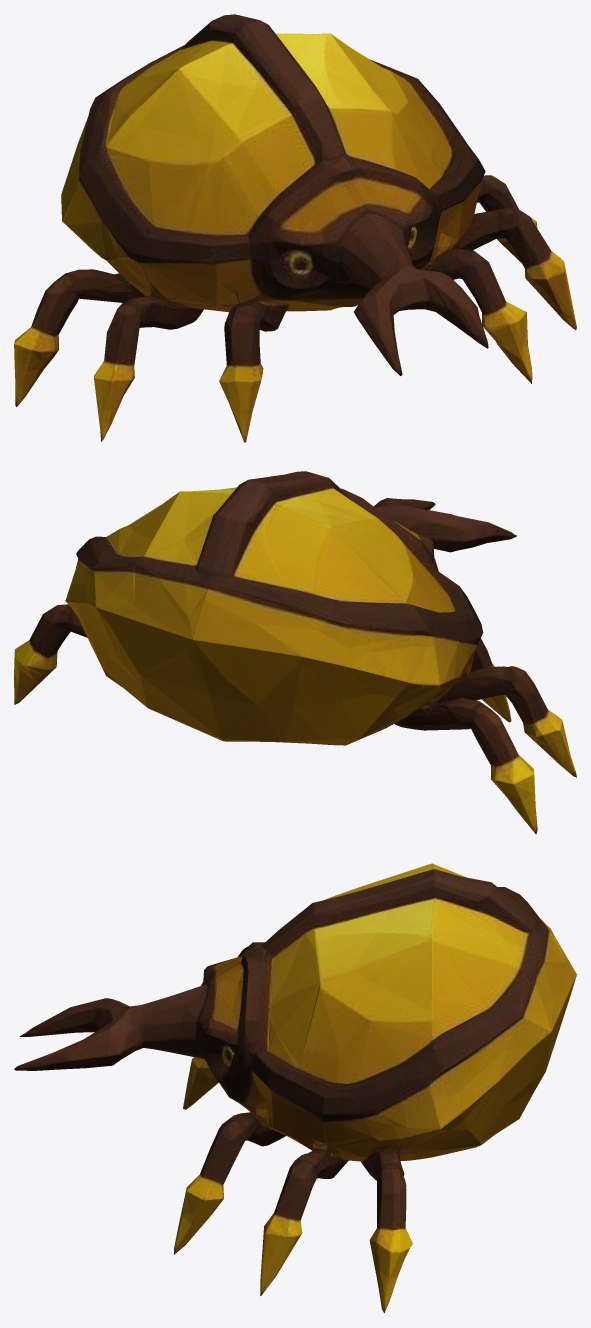
The model's file is m_elite_scarabee.glb.
3 views of the same model, one above another, from view 1: azimuth 30°, elevation 25°; view 2: azimuth 150°, elevation 25°; view 3: azimuth 270°, elevation 25° (orthographic).
Visible parts, largest first — view 1: geometry_0; view 2: geometry_0; view 3: geometry_0.
Part boxes in pixels (<box>): geometry_0: <box>14,14,576,442</box>; geometry_0: <box>14,471,576,834</box>; geometry_0: <box>14,863,576,1312</box>.
Bounding box in the file's own units: 0.9876 × 0.5504 × 0.905.
Materials: 1 (1 with a texture image).
